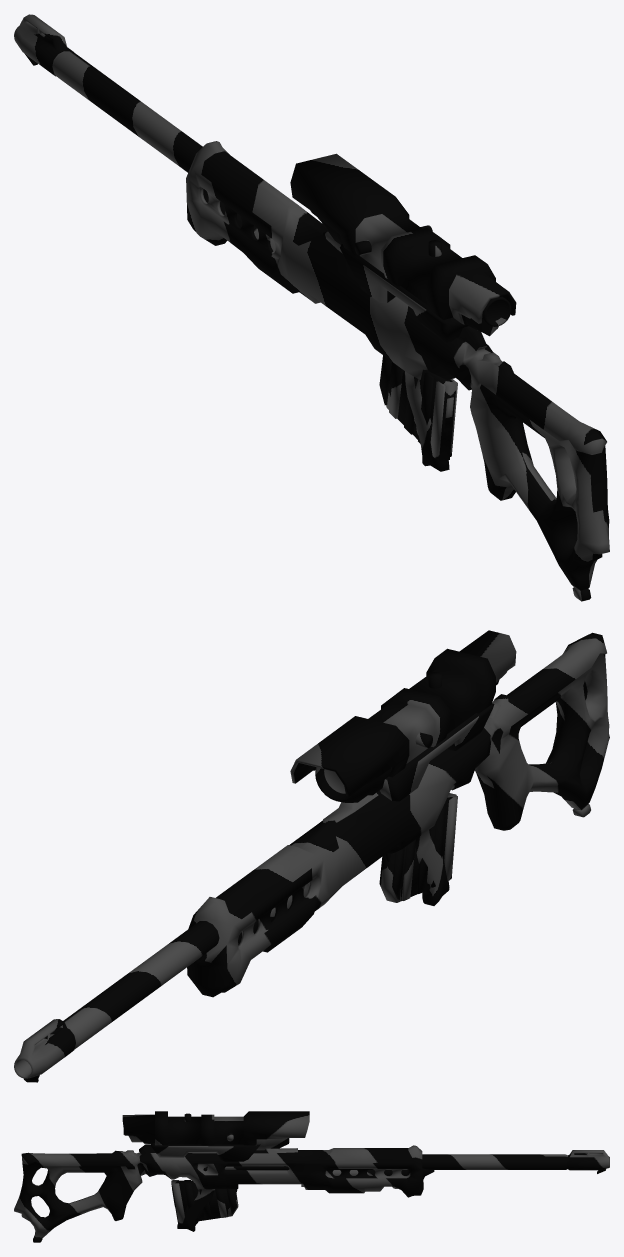
The model's file is KSR-29.obj.
The picture shows the model from 3 angles, top to bottom: view 1: azimuth 30°, elevation 25°; view 2: azimuth 150°, elevation 25°; view 3: azimuth 270°, elevation 25°; orthographic projection. The views are drawn at different scales.
Parts seen in each view (by area): view 1: Cube, Cube.003, Cube.001; view 2: Cube, Cube.003, Cube.001; view 3: Cube, Cube.003, Cube.001.
Part boxes in pixels (x1,y1,x2,y2): Cube: [14, 14, 609, 601]; Cube.003: [290, 153, 516, 342]; Cube.001: [379, 355, 457, 462]; Cube: [14, 632, 609, 1082]; Cube.003: [290, 630, 516, 802]; Cube.001: [379, 793, 457, 902]; Cube: [14, 1144, 609, 1242]; Cube.003: [122, 1111, 309, 1161]; Cube.001: [171, 1180, 238, 1224].
Size of the model in its own units: 0.7005 by 2.3 by 9.81.
